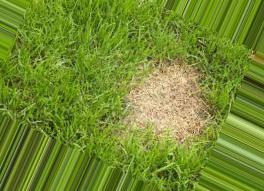patch: (136, 70, 197, 135)
